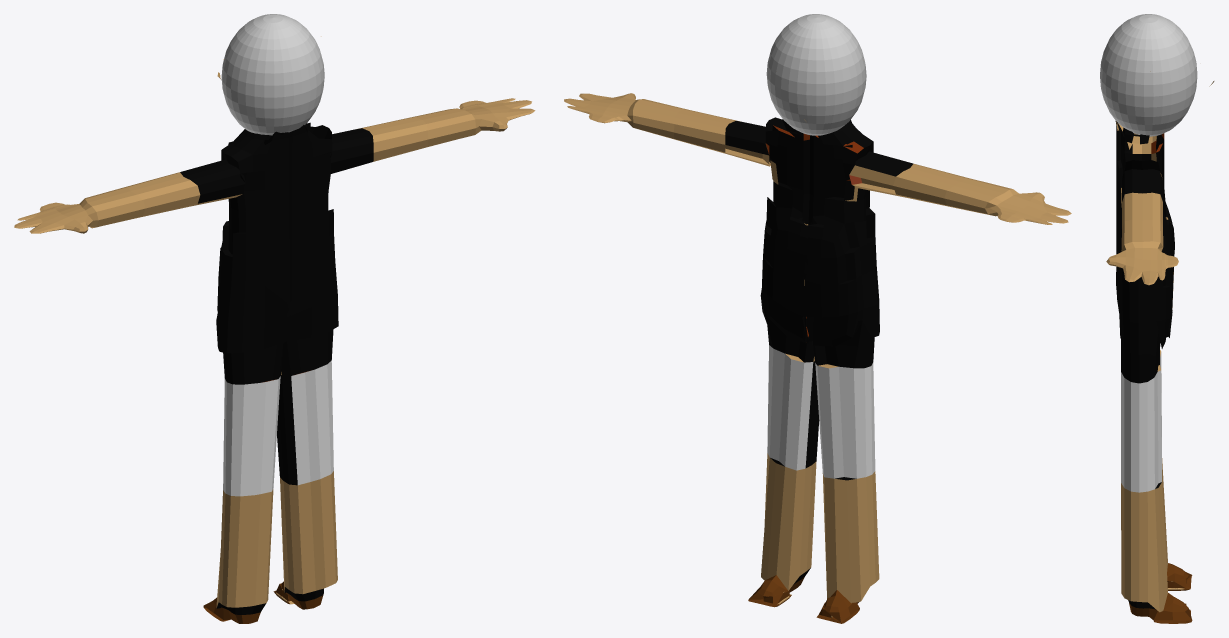
File: Hansen.fbx
3 views of the same model, side by side, from view 1: azimuth 30°, elevation 25°; view 2: azimuth 150°, elevation 25°; view 3: azimuth 270°, elevation 25° (orthographic). The views are drawn at different scales.
Visible parts, largest first — view 1: Cube, Sphere; view 2: Cube, Sphere; view 3: Cube, Sphere.
Part boxes in pixels (x1,y1,x2,y2): Cube: (14,36,535,623); Sphere: (221,14,324,135); Cube: (564,93,1071,623); Sphere: (766,14,866,135); Cube: (1106,71,1214,623); Sphere: (1100,14,1197,136).
Bounding box in the file's own units: 9216 × 10144 × 1811.
